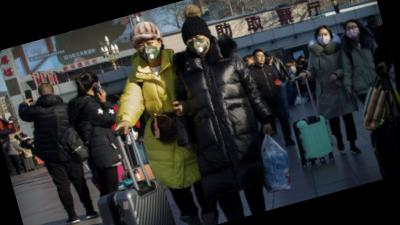with_mask: (135, 37, 164, 65), (185, 30, 213, 58), (315, 30, 333, 47), (345, 23, 362, 40)
without_mask: (254, 53, 267, 66)
